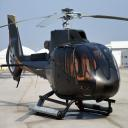helicopter: (2, 6, 124, 124)
